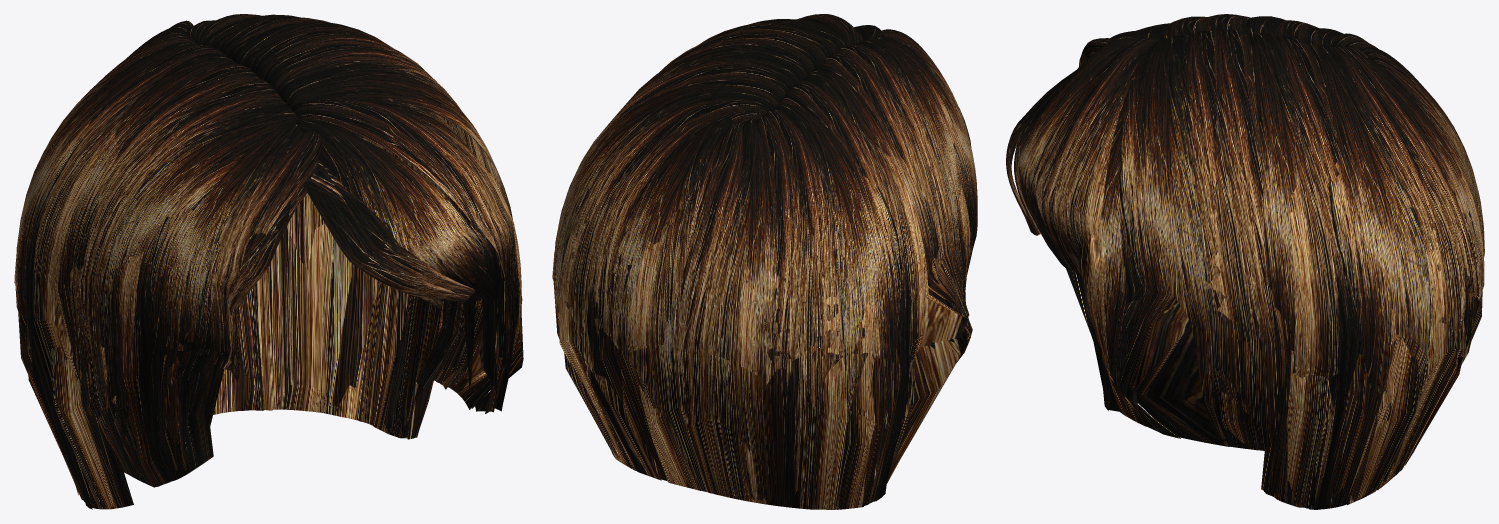
File: sonofabitch.obj
3 renders of one model, left to right at view 1: azimuth 30°, elevation 25°; view 2: azimuth 150°, elevation 25°; view 3: azimuth 270°, elevation 25°, orthographic. The views are drawn at different scales.
Parts seen in each view (by area): view 1: T4 Item_0; view 2: T4 Item_0; view 3: T4 Item_0.
Part boxes in pixels (left/top/right/bottom): T4 Item_0: left=14, top=14, right=523, bottom=509; T4 Item_0: left=552, top=14, right=977, bottom=509; T4 Item_0: left=1006, top=14, right=1484, bottom=509.
Bounding box in the file's own units: 0.6116 × 0.664 × 0.6975.
